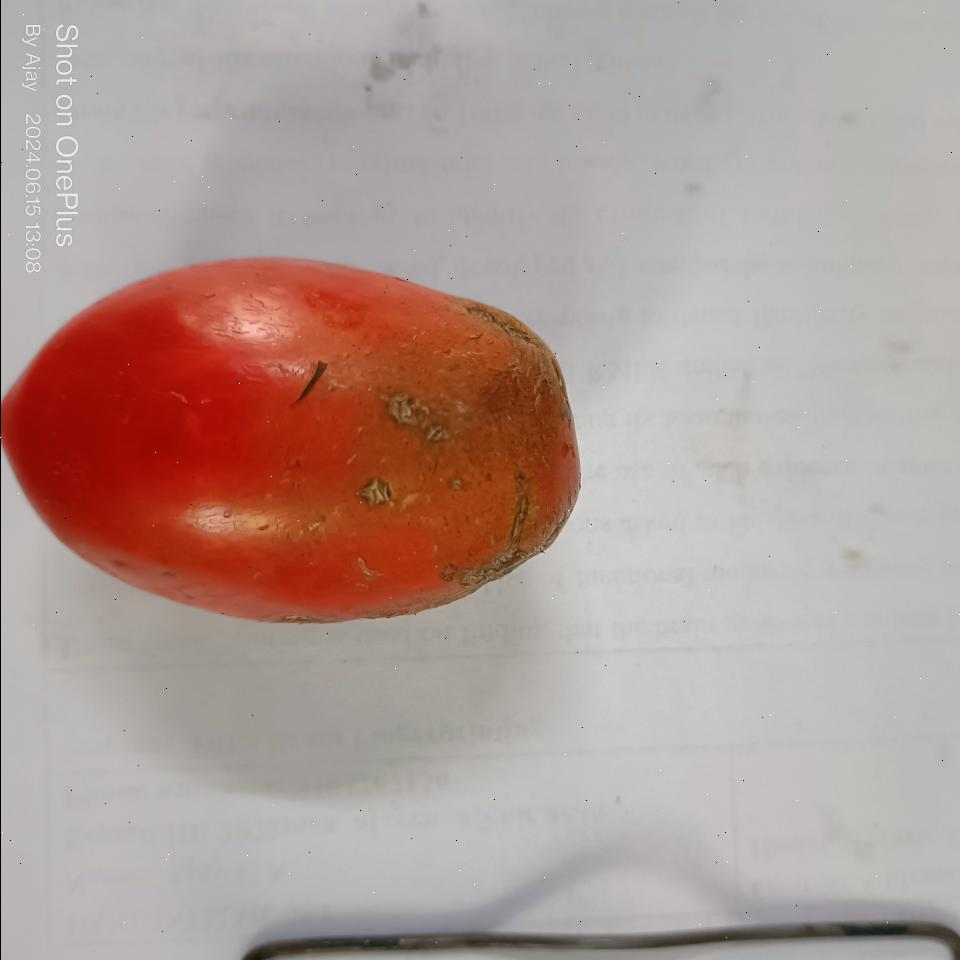Bacterial_Spot: (447, 478, 535, 588), (380, 386, 444, 444), (354, 474, 392, 516)
